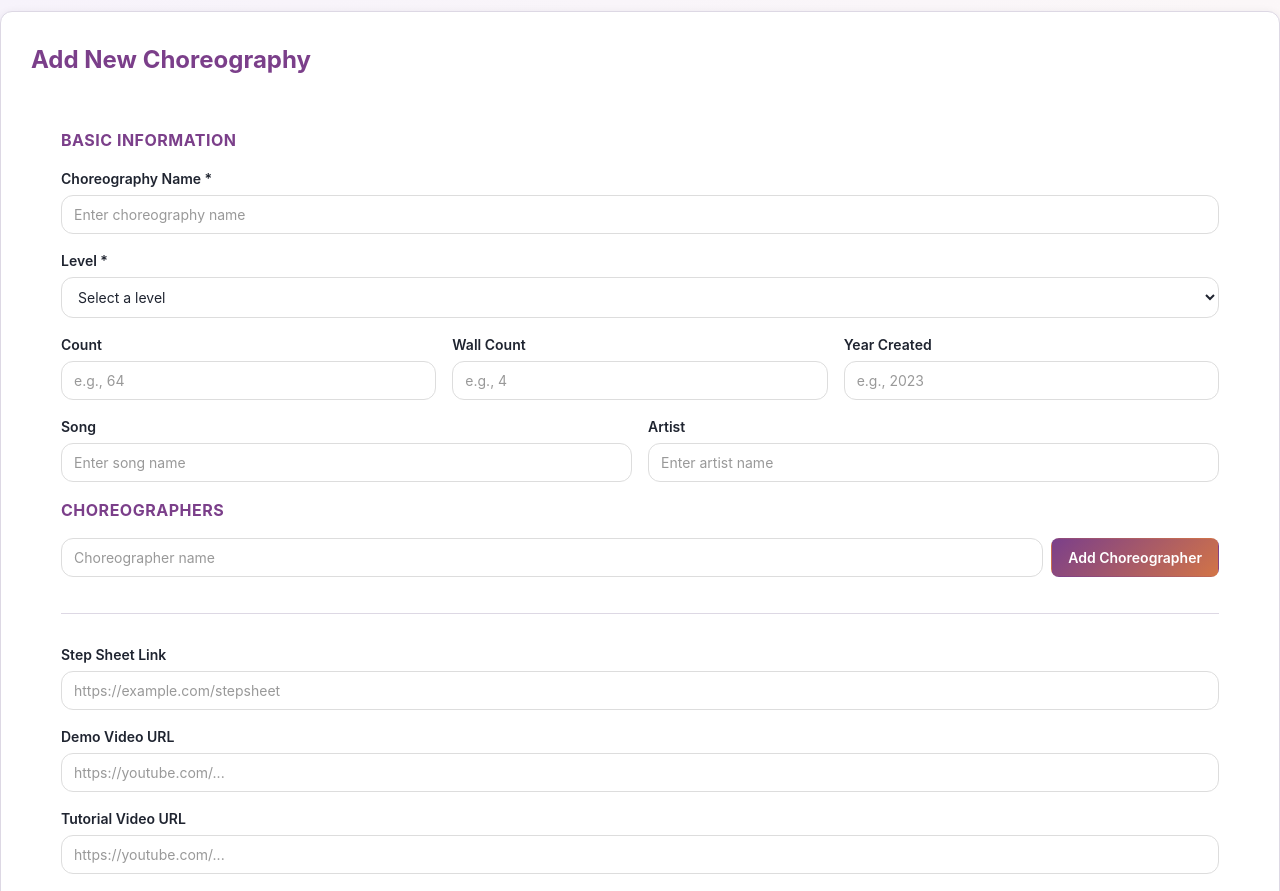
it: ChoreographyCreatePage › dismisses the duplicate warning when Cancel is clicked without saving
The image size is (1280, 891).
Type "River Dance" into the field labelled "Choreography Name *" at (640, 214), box [61,195,1219,234]
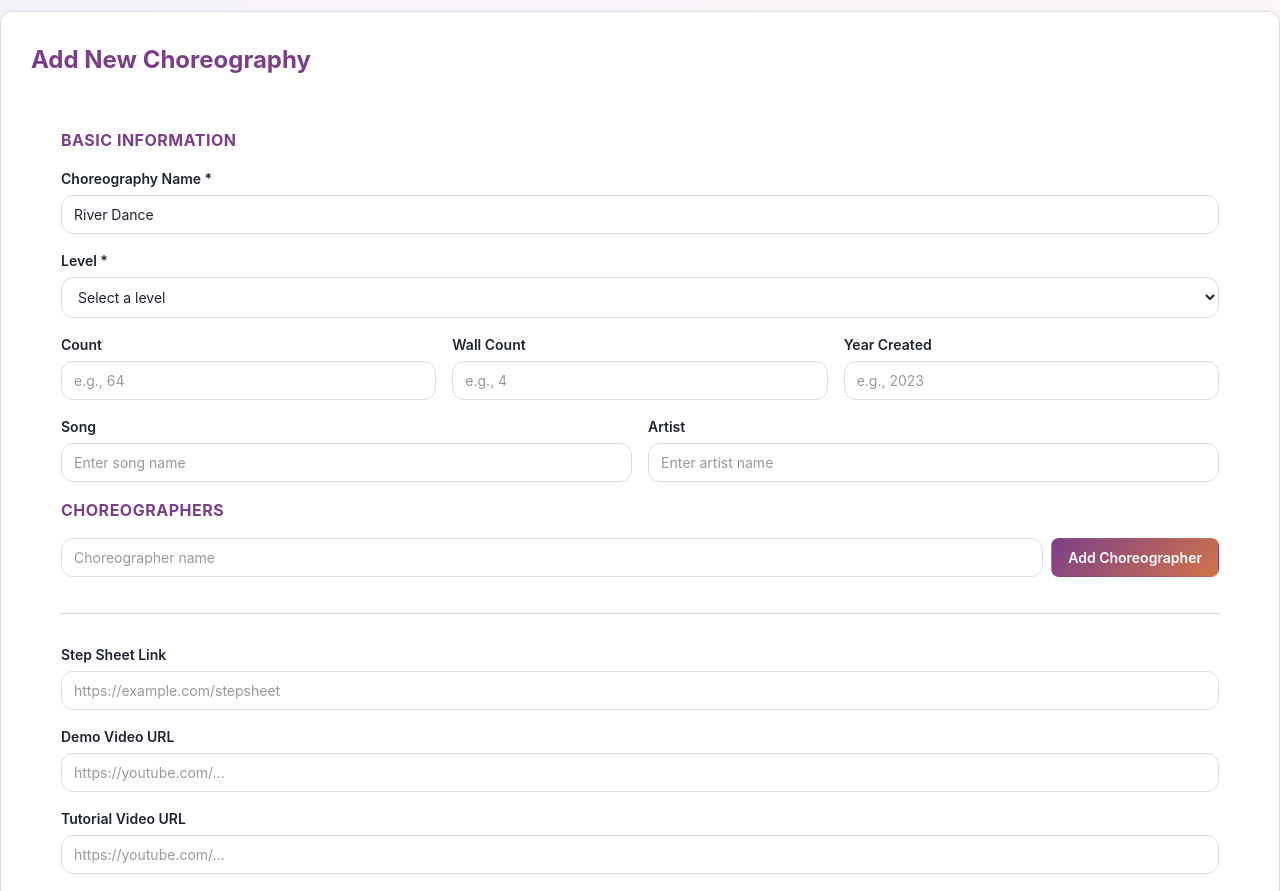
Select "Beginner" in the dropdown labelled "Level *" at (640, 298), box [61,277,1219,318]
(page scrolled)
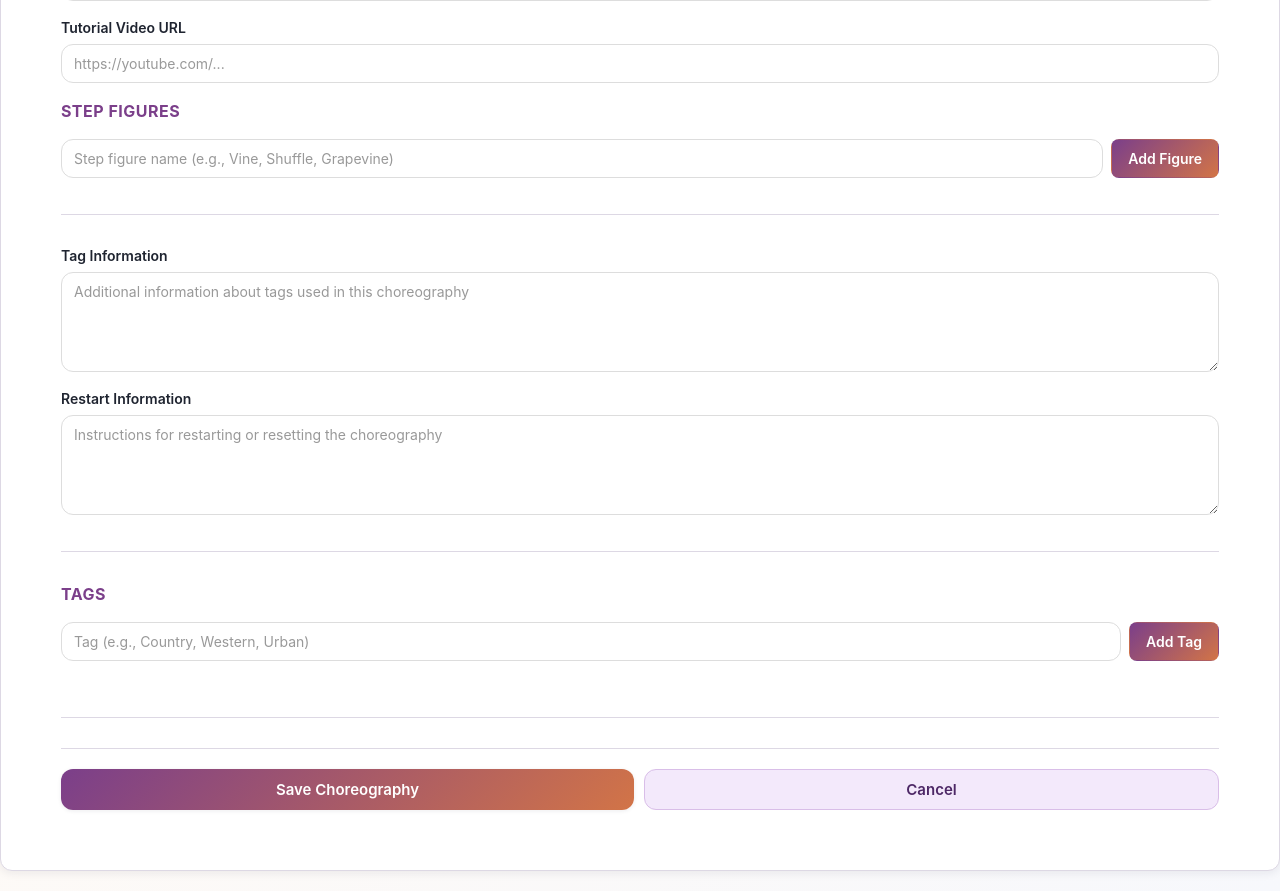
Click the button "Save Choreography" at (348, 790), box [61,769,634,810]
(page scrolled)
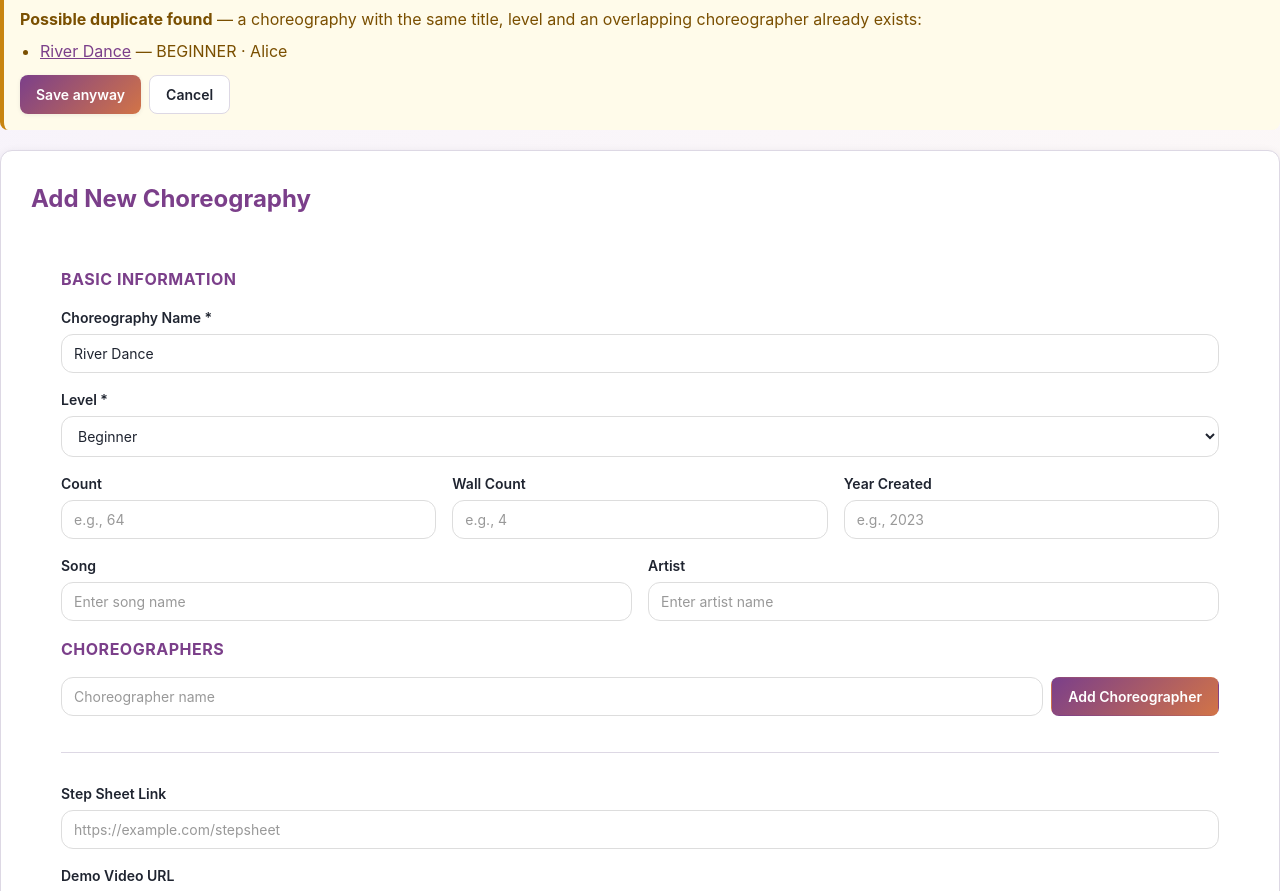
expect the text "Possible duplicate found" is shown: met, box [20,9,213,29]
Click the button "Cancel" at (190, 94), box [149,75,230,114]
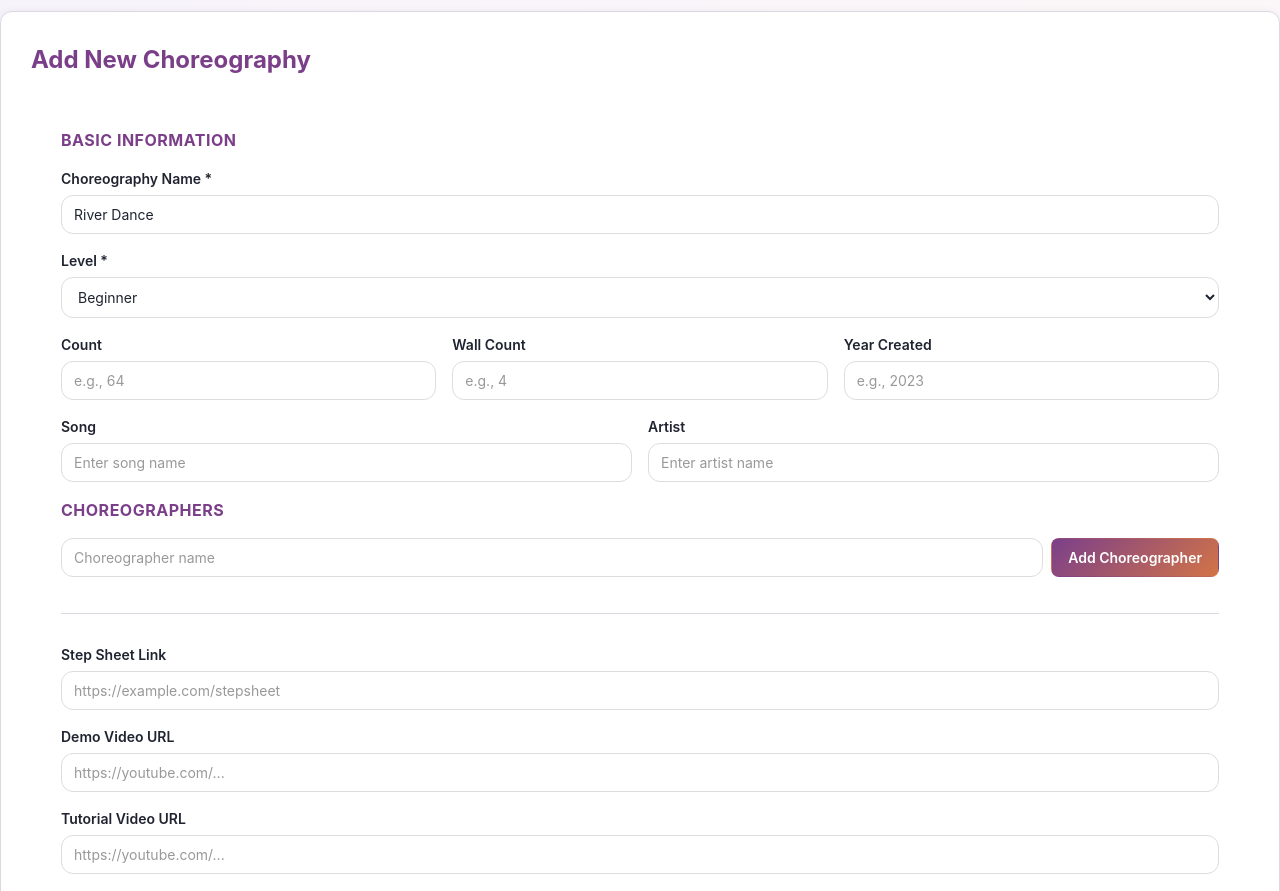
expect the text "Possible duplicate found" is gone: met
